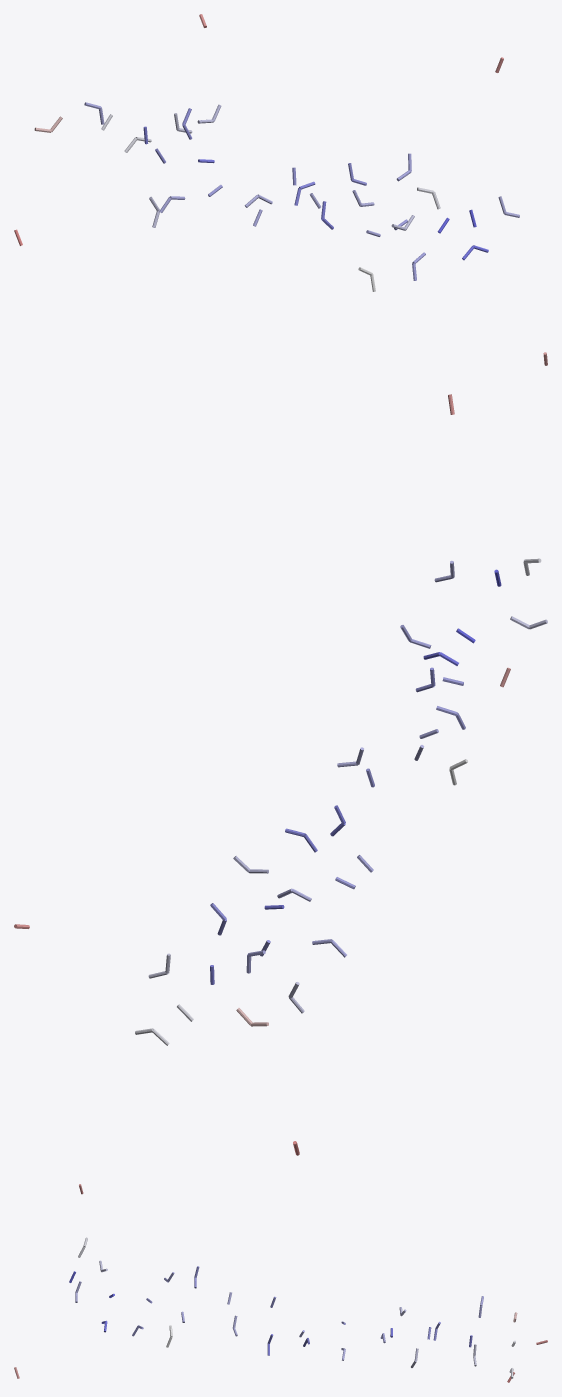
File: 1bna__sticks__b-factor__H.glb
The picture shows the model from 3 angles, top to bottom: view 1: azimuth 30°, elevation 25°; view 2: azimuth 150°, elevation 25°; view 3: azimuth 270°, elevation 25°; orthographic projection. The views are drawn at different scales.
Parts seen in each view (by area): view 1: Renderer Node; view 2: Renderer Node; view 3: Renderer Node.
Part boxes in pixels (x1=…): Renderer Node: x1=14, y1=14, x2=547, y2=365; Renderer Node: x1=14, y1=394, x2=547, y2=1155; Renderer Node: x1=14, y1=1184, x2=547, y2=1382.
Size of the model in its own units: 14.05 by 23.3 by 43.49.
